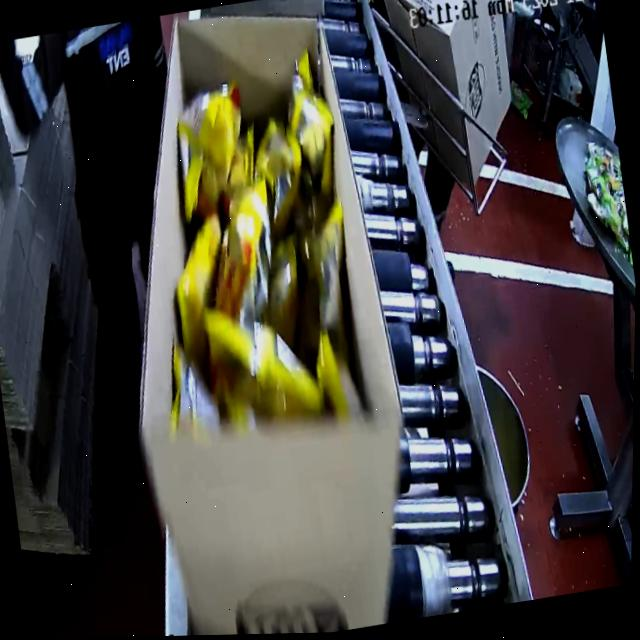SALTED: (140, 61, 376, 422)
